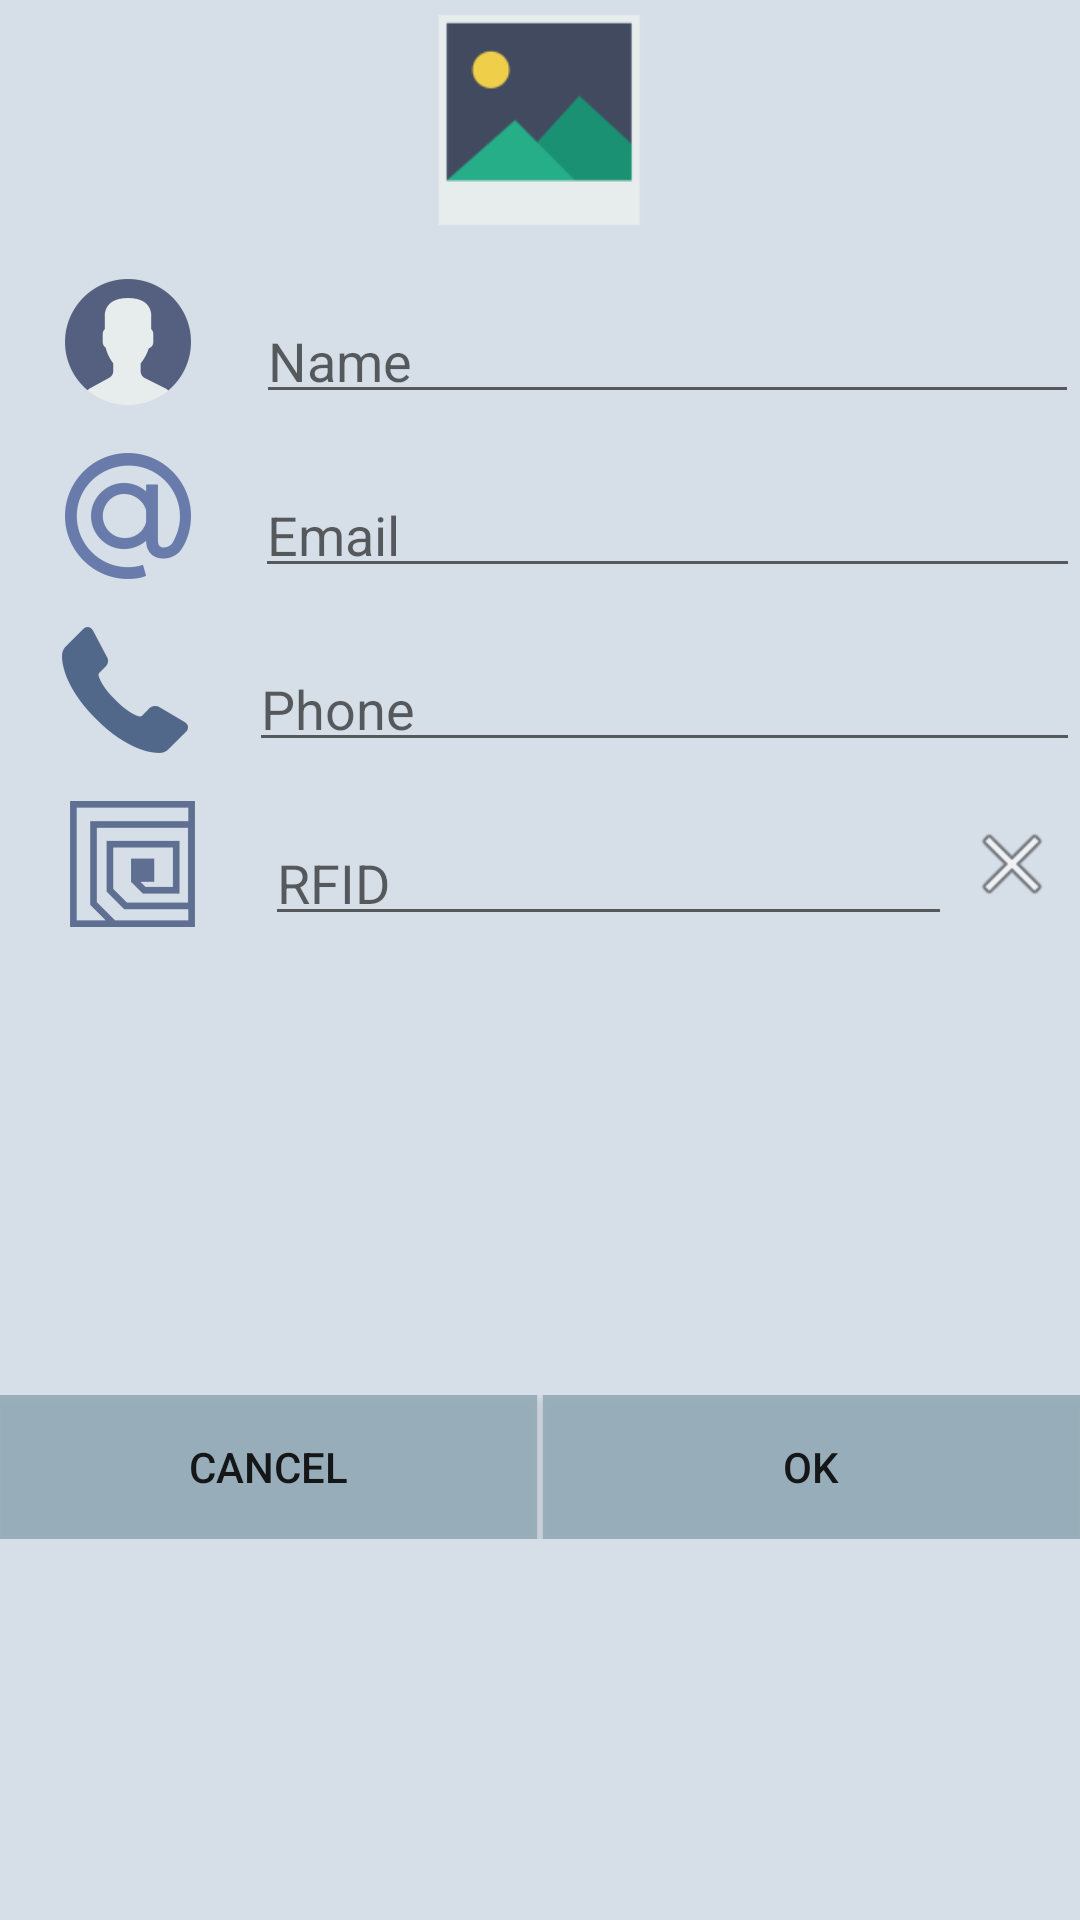

Point at icon controls on the screen. Image size 1080px×1920px, points as point (x, y).
close clear cancel: point (1012, 864)
item user: point (128, 334)
